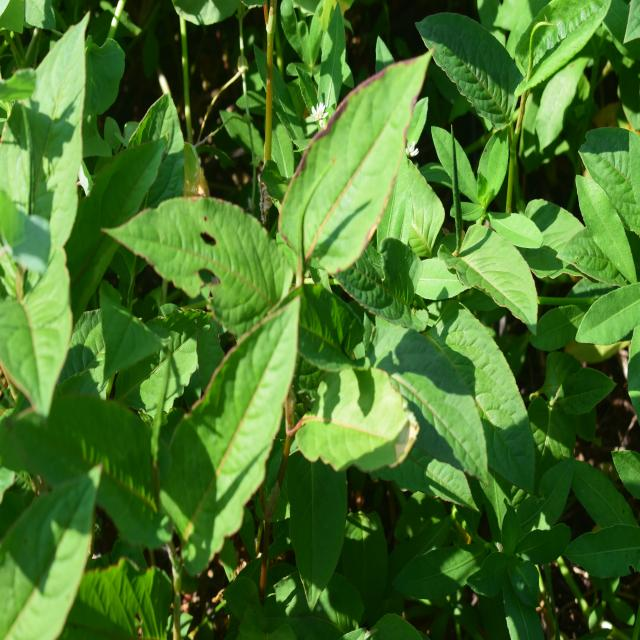Chinese_knotweed: (121, 100, 396, 493), (365, 188, 546, 491)
